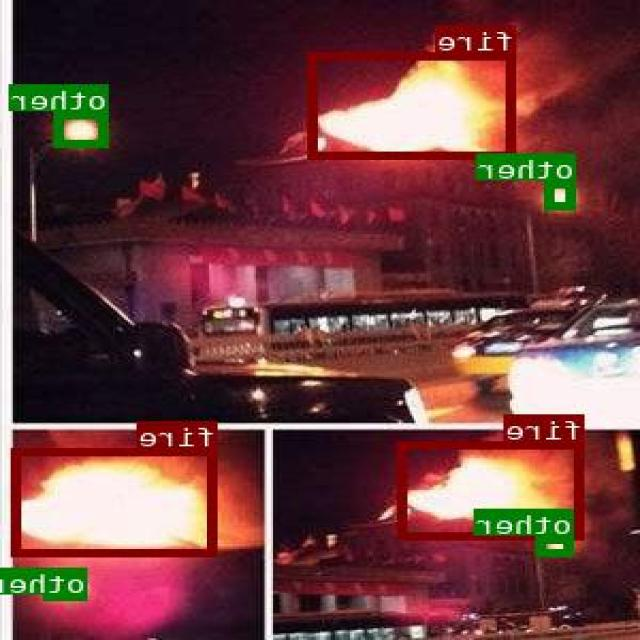fire: (14, 447, 219, 555), (310, 52, 518, 157), (400, 440, 585, 538)
other: (56, 111, 111, 146), (46, 568, 88, 600), (546, 180, 578, 208), (540, 535, 574, 555)
